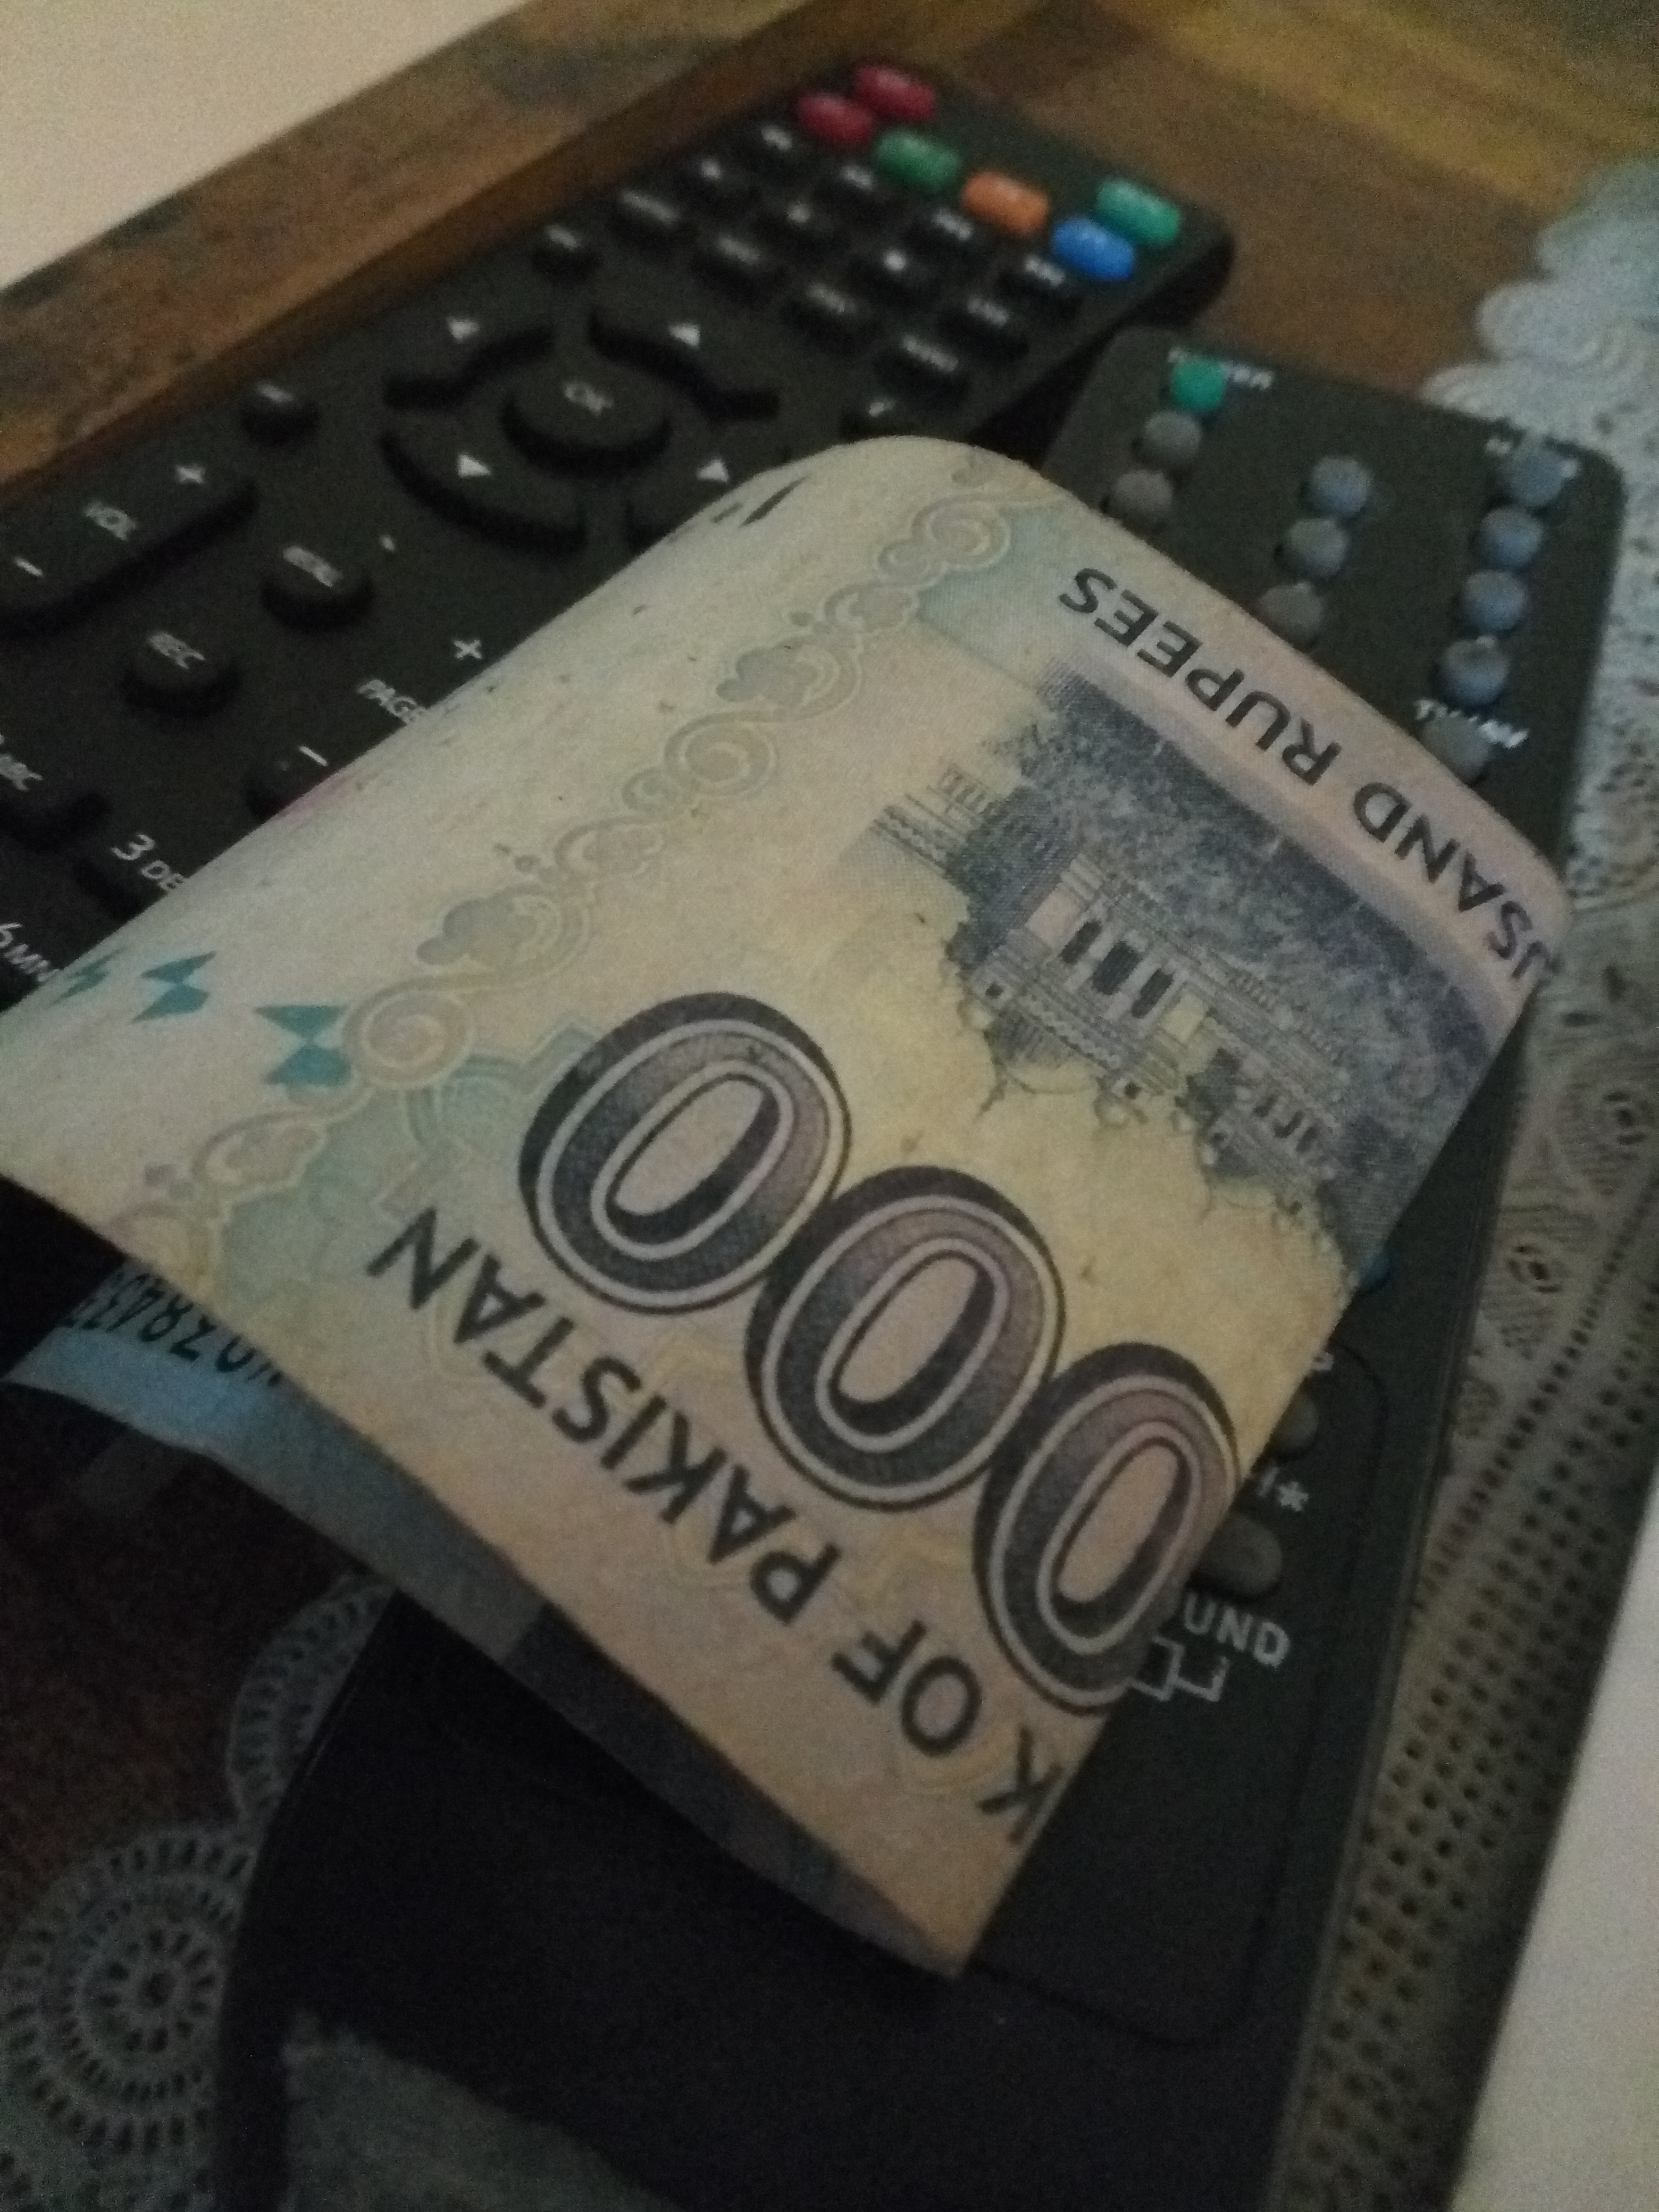1000 rupee: (35, 404, 1654, 2000)
